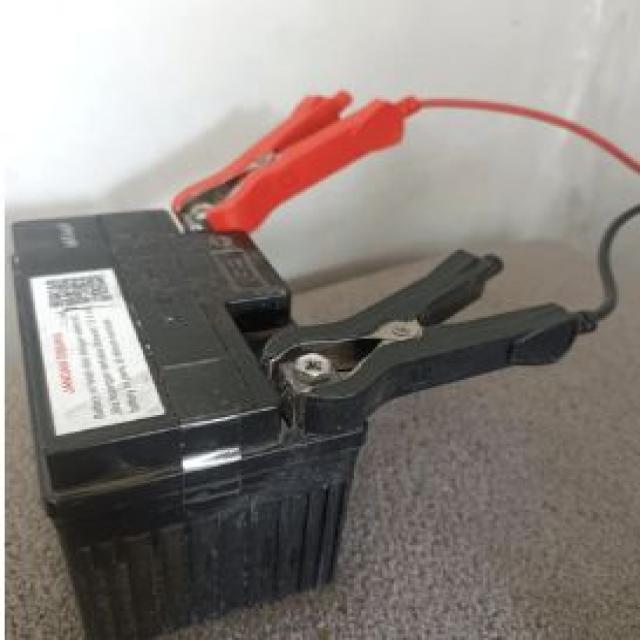electronic: (5, 61, 605, 640)
